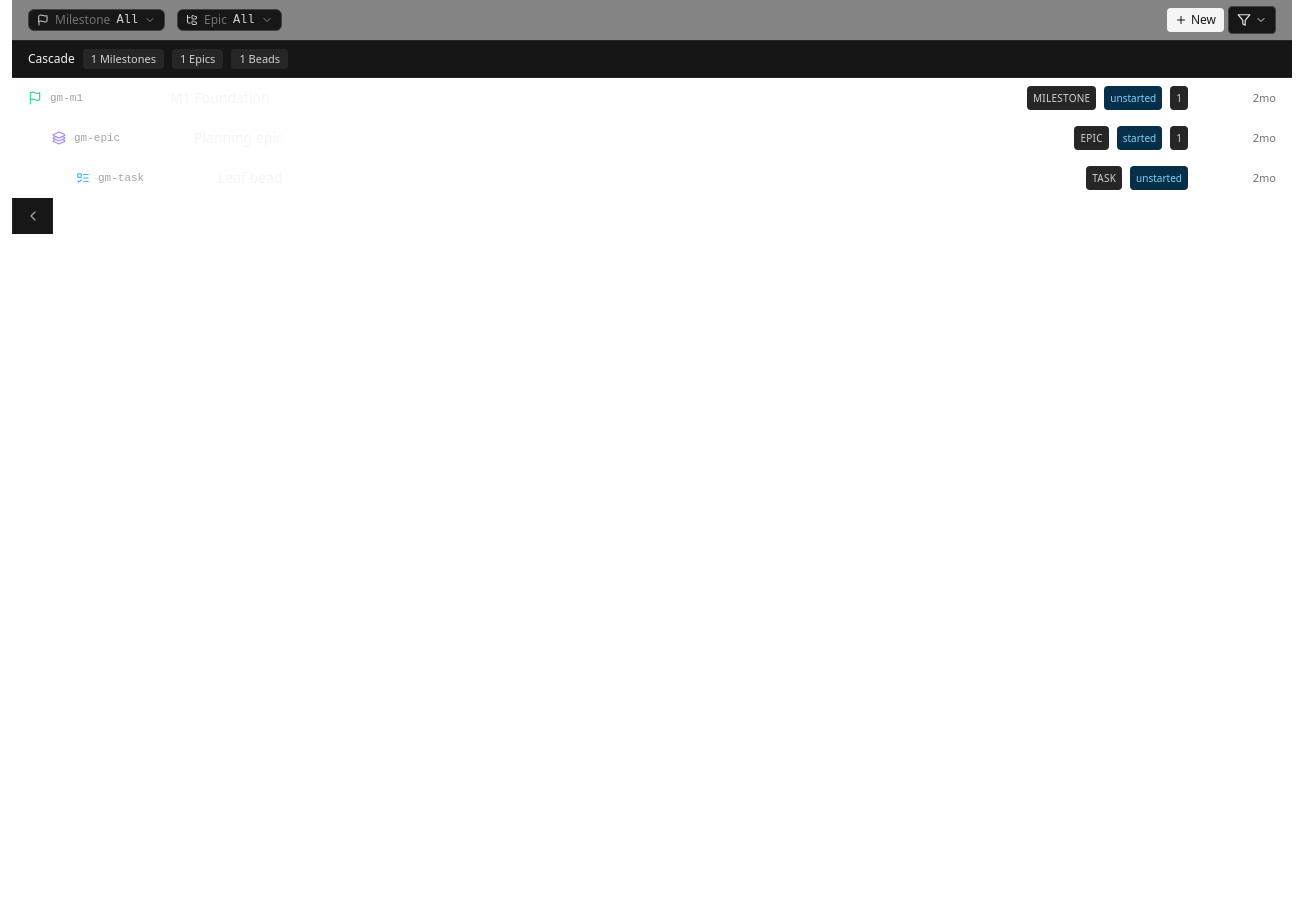
Test: BoardPage › opens an epic detail tab when an epic is selected in Cascade view
Expected: the element with test id "beads-cascade" is shown, [12, 41, 1292, 198]
Click the button "gm-epic Planning epic epic started 1 2mo" at (97, 138), box [12, 118, 1292, 158]
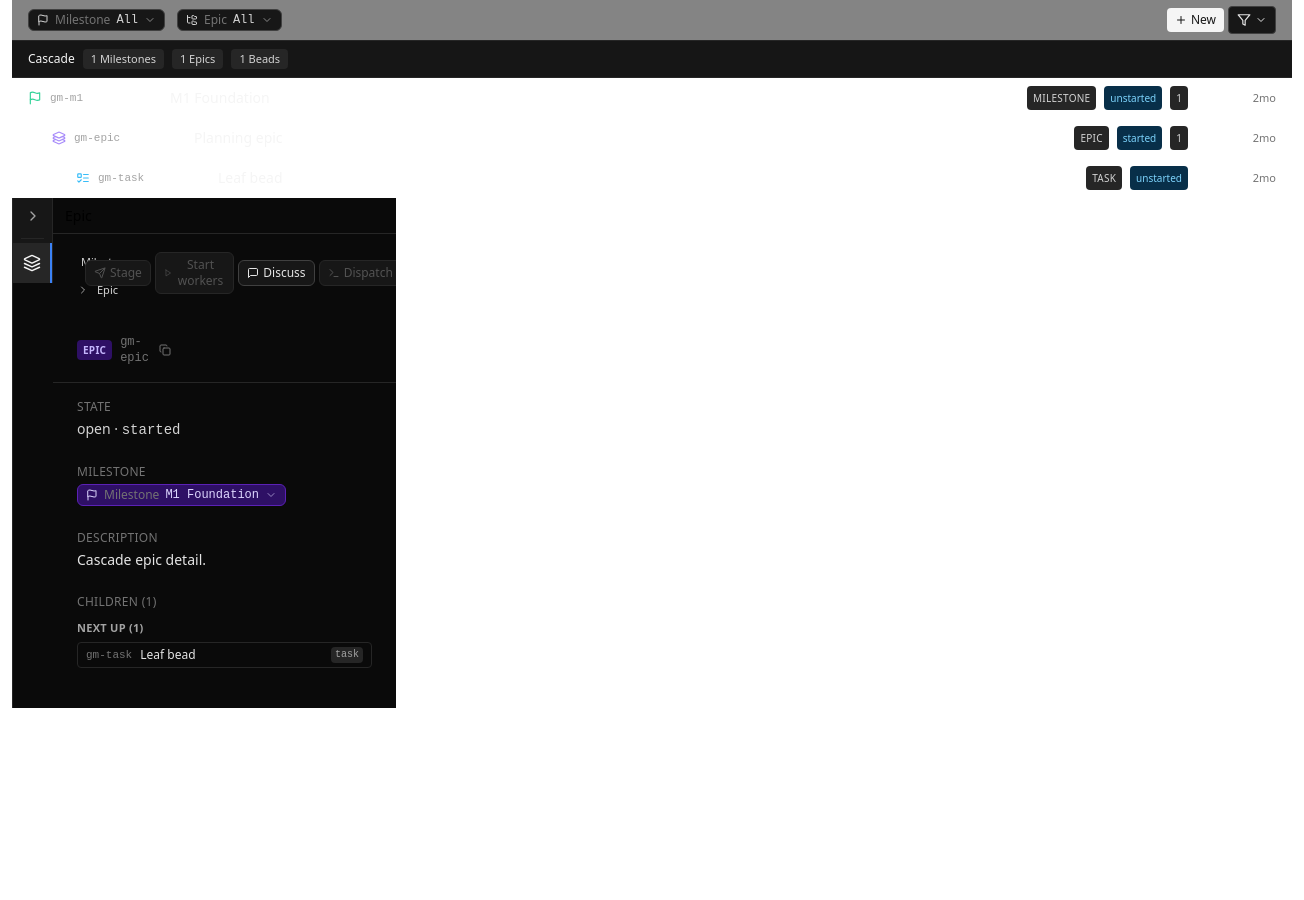
Expected: the text with test id "epic-detail-id" is shown, [120, 334, 149, 366]
Expected: the text with test id "epic-detail-id" reads "gm-epic", [120, 335, 149, 365]
Expected: the text "Cascade epic detail." is shown, [77, 550, 206, 569]
